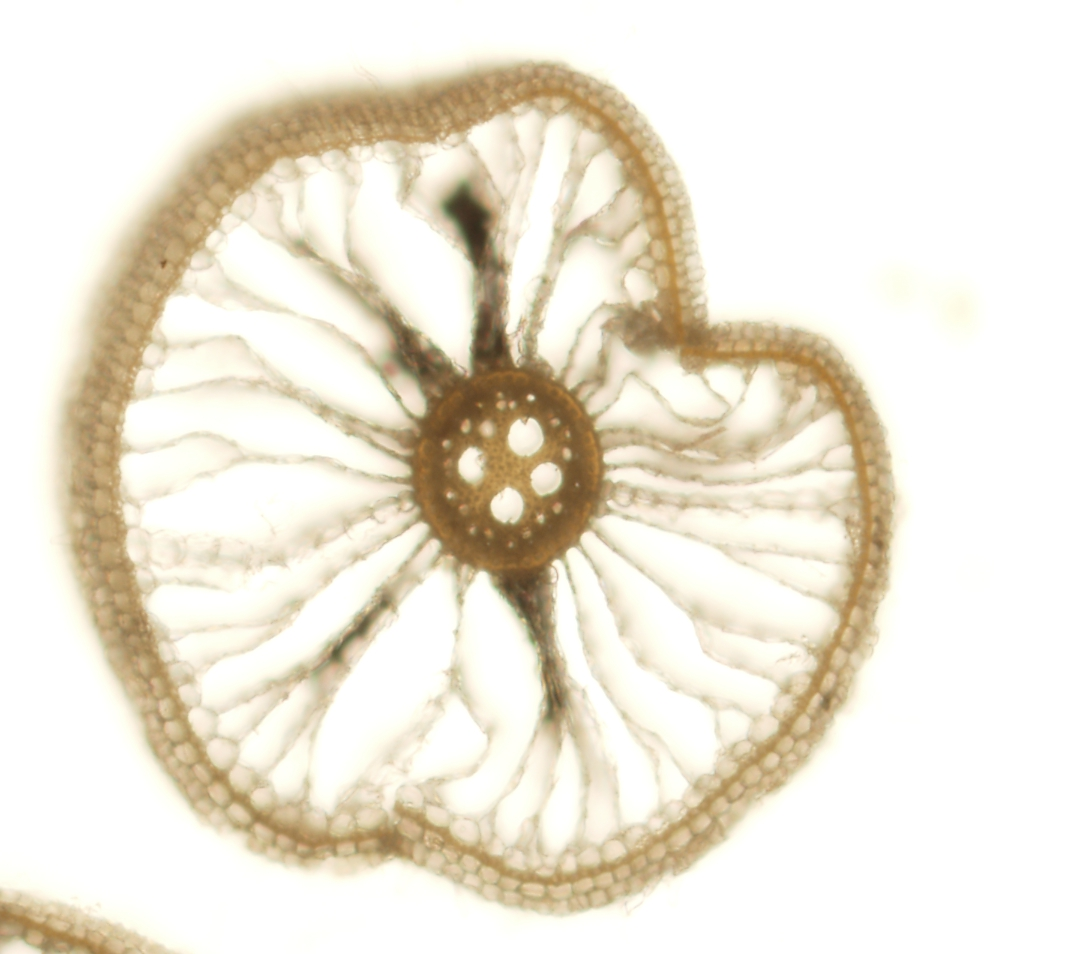lm: (506, 417, 543, 457), (489, 487, 523, 524), (457, 446, 486, 487), (530, 462, 562, 496)
